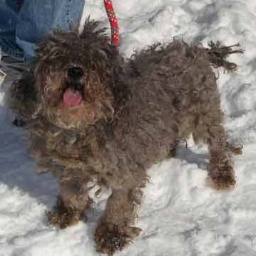dog: (13, 23, 234, 245)
